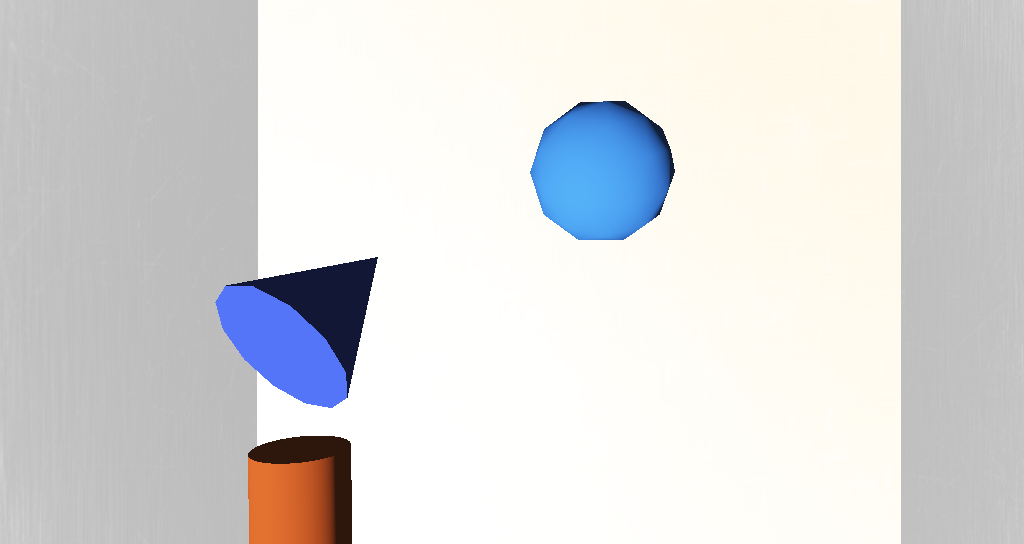cone: (350, 322, 404, 375)
cylinder: (333, 239, 448, 315)
sphere: (478, 217, 546, 260)
